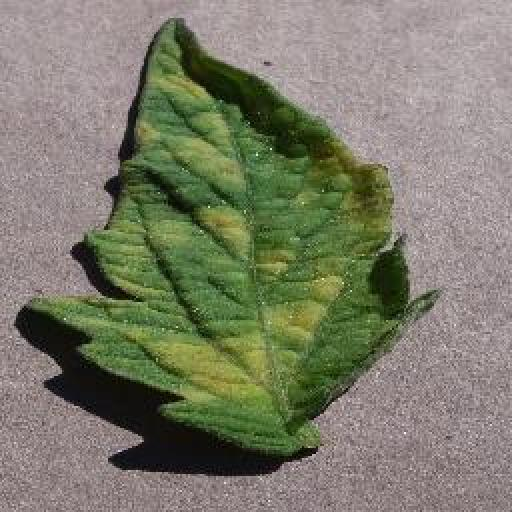disease_tomato: (24, 16, 446, 456)
